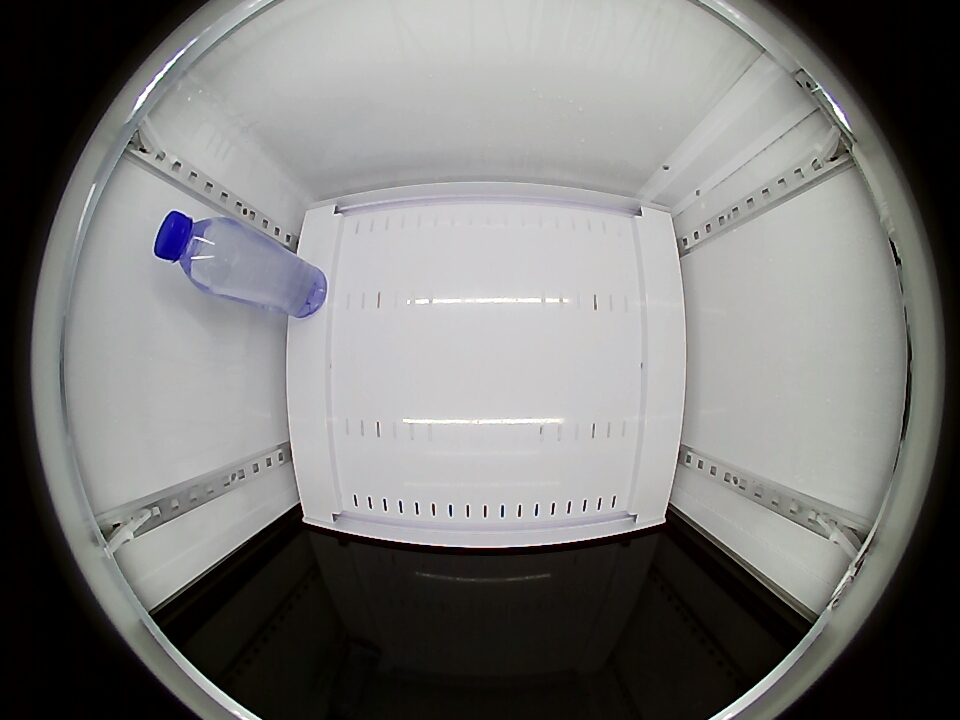aerbeisi: (153, 211, 242, 293)
